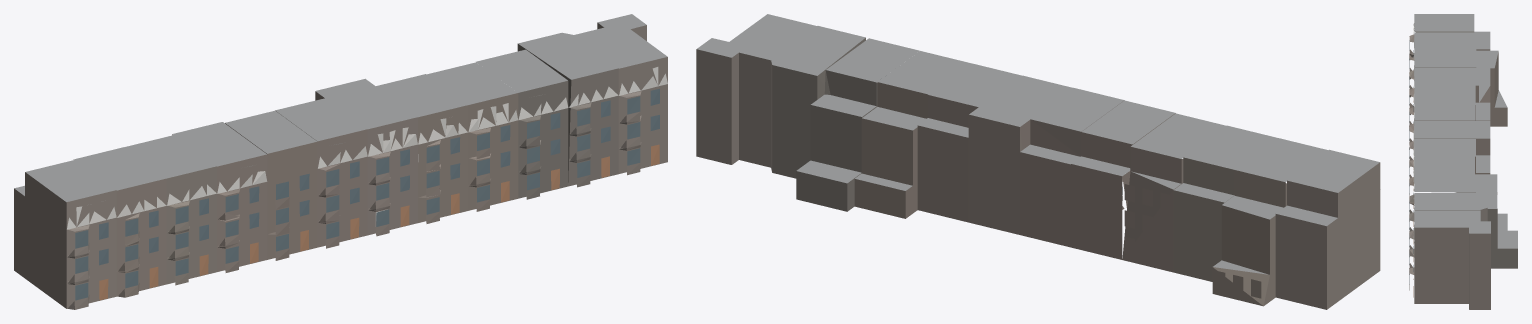
Rendered from chunk-face-hoendiep-5-35-r2.lod2.glb.
3 renders of one model, left to right at view 1: azimuth 30°, elevation 25°; view 2: azimuth 150°, elevation 25°; view 3: azimuth 270°, elevation 25°, orthographic. The views are drawn at different scales.
Visible parts, largest first — view 1: lod2; view 2: lod2; view 3: lod2.
Part boxes in pixels (x1,y1,x2,y2): lod2: [14, 14, 667, 309]; lod2: [696, 14, 1380, 309]; lod2: [1409, 14, 1517, 309].
Size of the model in its own units: 75.13 by 12.38 by 15.82.
